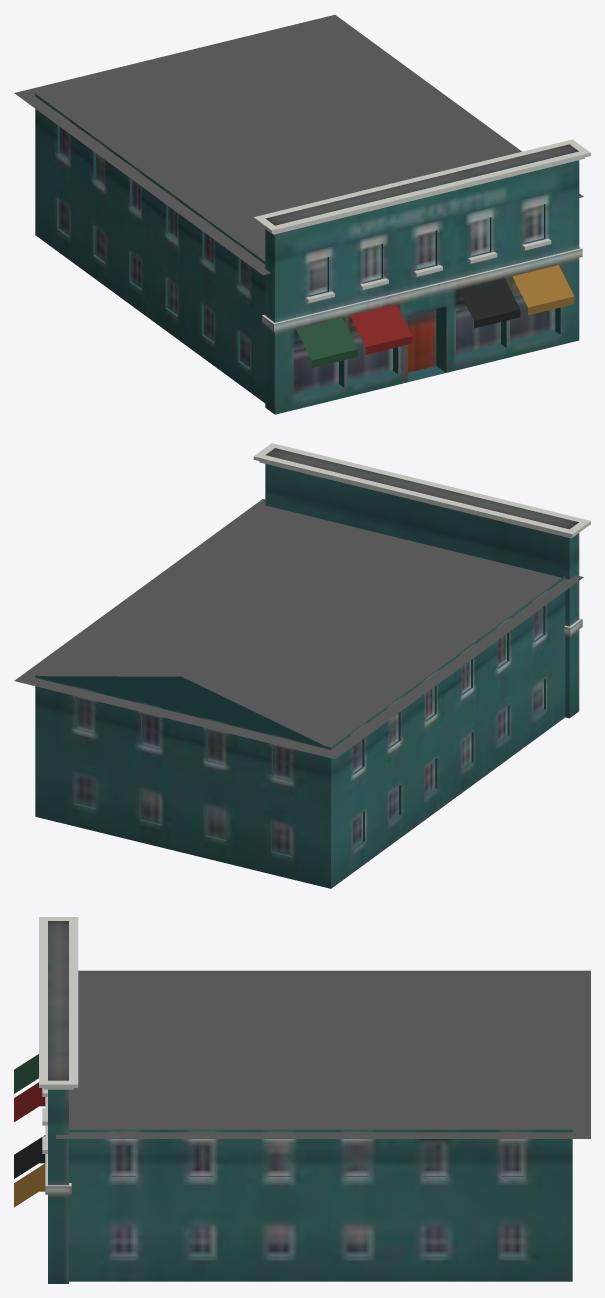
Rendered from seattle_low_d.glb.
3 views of the same model, one above another, from view 1: azimuth 30°, elevation 25°; view 2: azimuth 150°, elevation 25°; view 3: azimuth 270°, elevation 25° (orthographic). The views are drawn at different scales.
Parts seen in each view (by area): view 1: seattle_low_d; view 2: seattle_low_d; view 3: seattle_low_d.
Boxes of the visible parts, bbox=[...] form: seattle_low_d: bbox=[14, 15, 590, 414]; seattle_low_d: bbox=[14, 443, 590, 888]; seattle_low_d: bbox=[14, 917, 590, 1283].
Size of the model in its own units: 15.2 by 8.55 by 22.
Materials: 1 (1 with a texture image).
